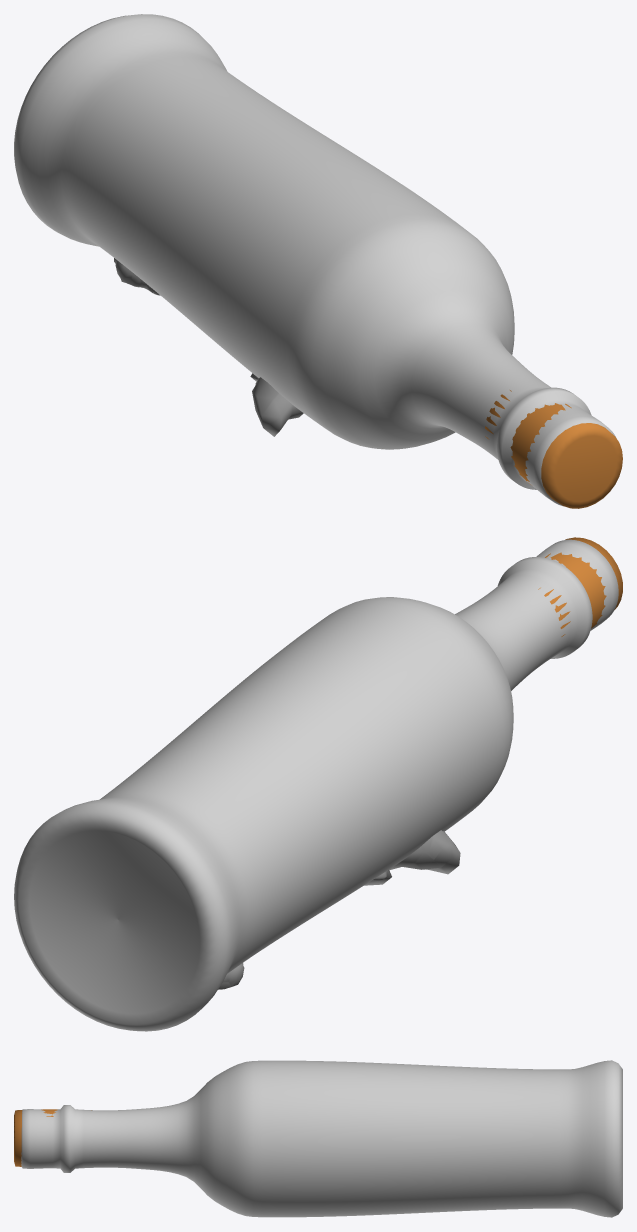
The model's file is flasche_07.dae.
The picture shows the model from 3 angles, top to bottom: view 1: azimuth 30°, elevation 25°; view 2: azimuth 150°, elevation 25°; view 3: azimuth 270°, elevation 25°; orthographic projection. The views are drawn at different scales.
Visible parts, largest first — view 1: Flasche; view 2: Flasche; view 3: Flasche.
Boxes of the visible parts, bbox=[...] form: Flasche: bbox=[14, 14, 622, 508]; Flasche: bbox=[14, 537, 622, 1031]; Flasche: bbox=[14, 1060, 622, 1217].
Size of the model in its own units: 1114 by 1121 by 4318.
